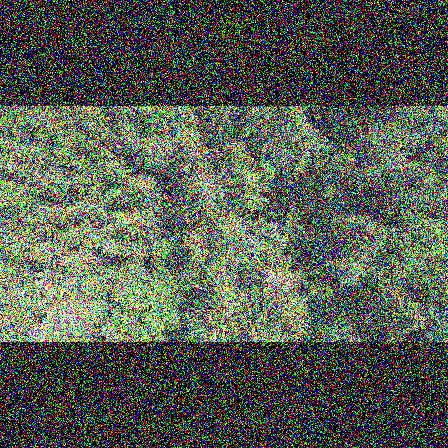Sick: (253, 259, 299, 299)
